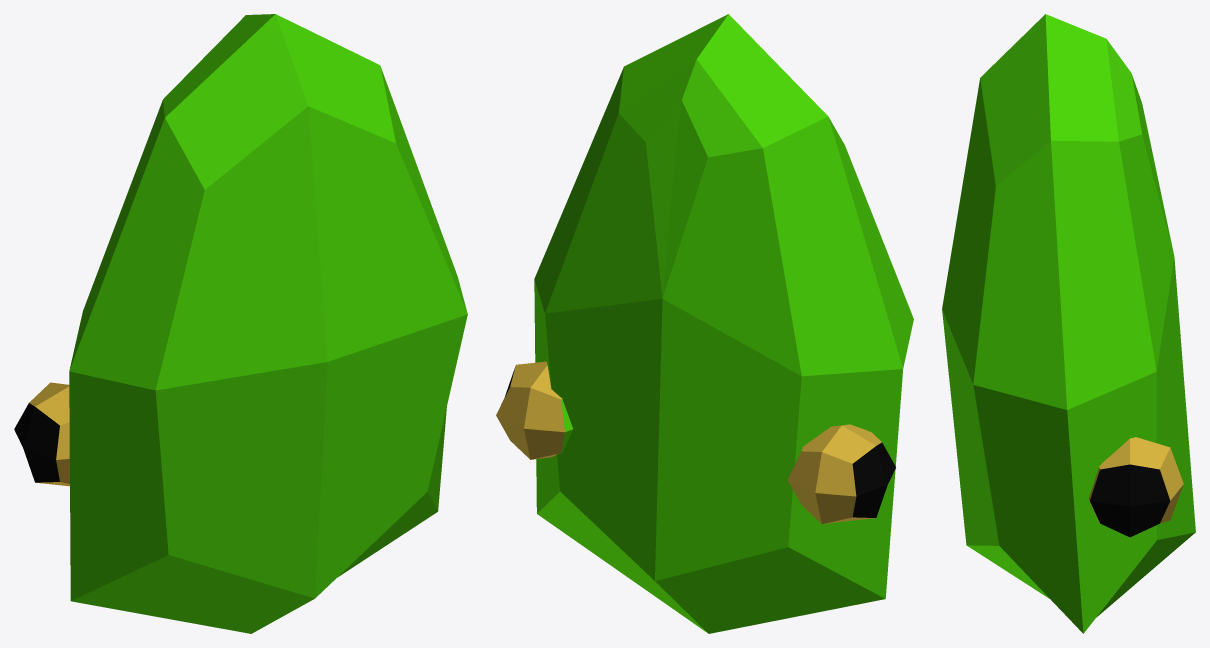
The model's file is lowpolySnake.fbx.
3 views of the same model, side by side, from view 1: azimuth 30°, elevation 25°; view 2: azimuth 150°, elevation 25°; view 3: azimuth 270°, elevation 25° (orthographic). The views are drawn at different scales.
Visible parts, largest first — view 1: Cube; view 2: Cube; view 3: Cube.
Boxes of the visible parts, left/top/right/bottom form: Cube: left=14, top=14, right=467, bottom=633; Cube: left=496, top=14, right=913, bottom=633; Cube: left=942, top=14, right=1195, bottom=633.
Size of the model in its own units: 187 by 282 by 106.
